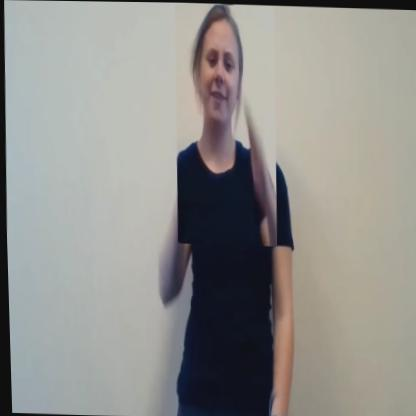Hello: (171, 2, 279, 245)
